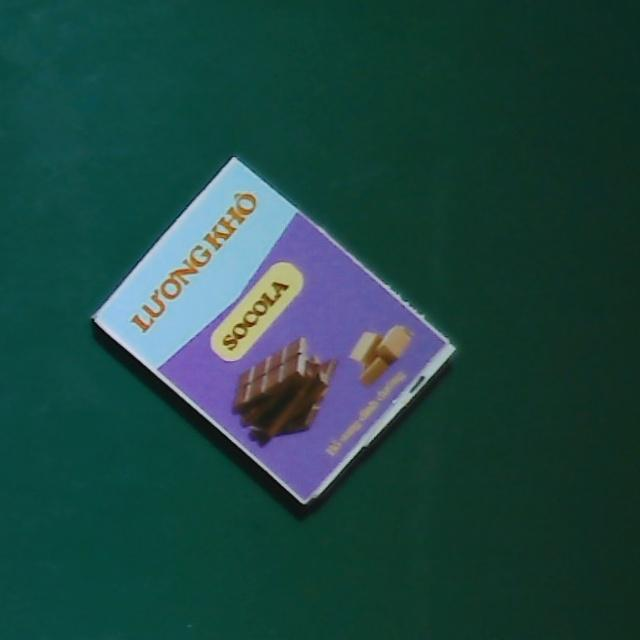socola: (89, 151, 457, 513)
